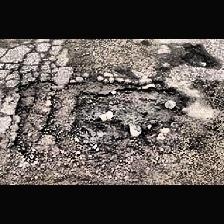pothole: (46, 76, 188, 172), (178, 42, 218, 68)
